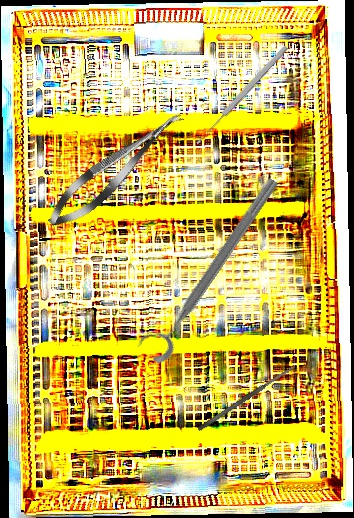Fixation Ring: (133, 167, 285, 367)
Micro Scissor: (39, 101, 192, 237)
Spatula Surgical: (196, 364, 297, 432)
Surgical Spoon: (193, 44, 290, 146)
